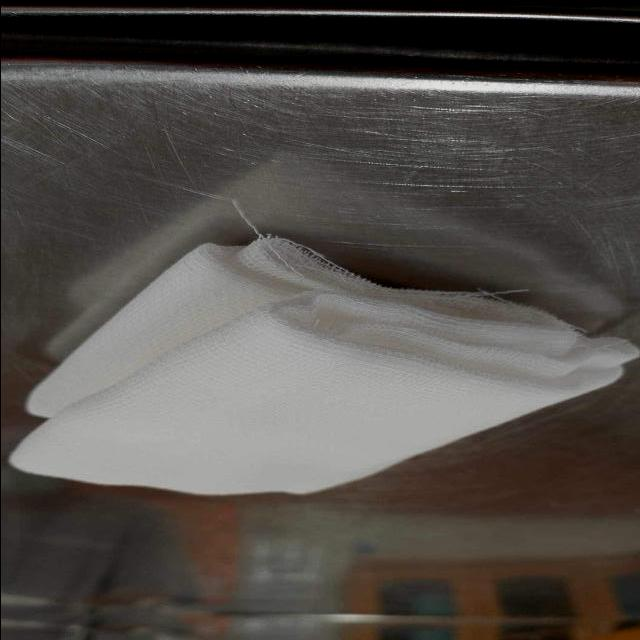General: (2, 4, 638, 637)
Infectious: (8, 233, 636, 498)
